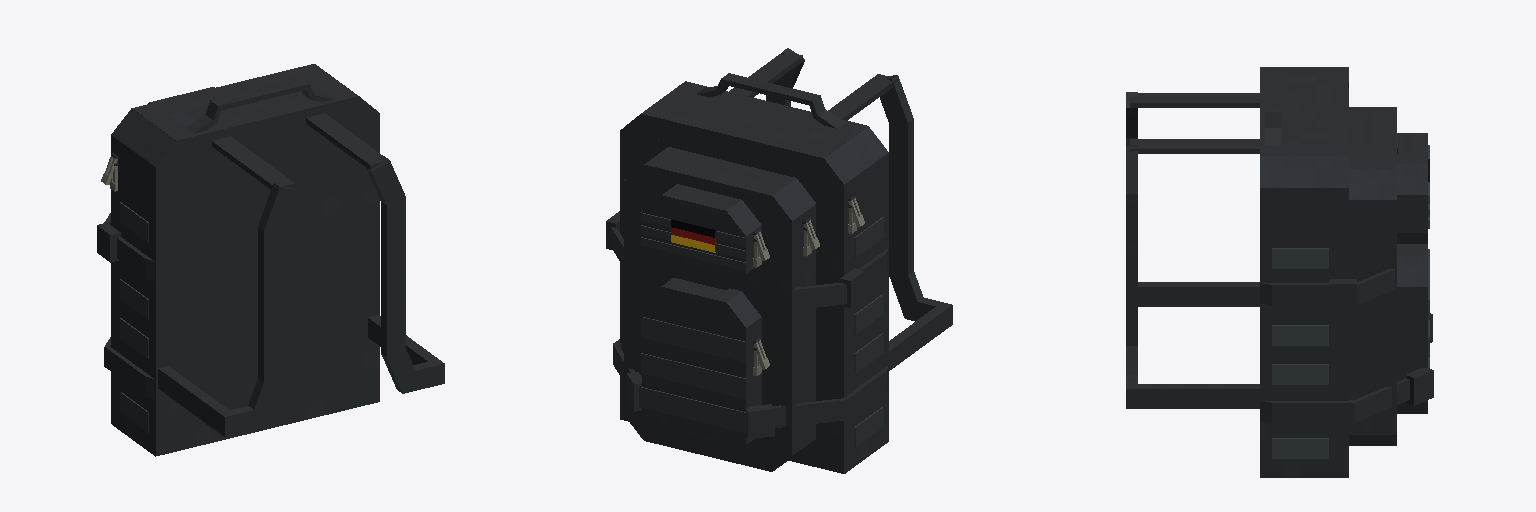
3 renders of one model, left to right at view 1: azimuth 30°, elevation 25°; view 2: azimuth 150°, elevation 25°; view 3: azimuth 270°, elevation 25°, orthographic.
Parts seen in each view (by area): view 1: Element #1, Element #9, Element #5, Element #106, Element #8, Element #103, Element #114, Element #109, Element #108, Element #92, Element #105, Element #107 (+13 smaller); view 2: Element #1, Element #10, Element #9, Element #14, Element #13, Element #106, Element #24, Element #40, Element #8, Element #41, Element #42, Element #110 (+25 smaller); view 3: Element #1, Element #10, Element #9, Element #102, Element #103, Element #13, Element #7, Element #14, Element #109, Element #114, Element #39, Element #12 (+17 smaller).
Part boxes in pixels (x1,y1,x2,y2): Element #1: (111, 113, 379, 456); Element #9: (132, 64, 358, 162); Element #5: (381, 241, 405, 356); Element #106: (258, 271, 282, 386); Element #8: (111, 108, 175, 173); Element #103: (158, 366, 227, 432); Element #114: (306, 113, 382, 170); Element #109: (212, 136, 295, 189); Element #108: (258, 183, 297, 234); Element #92: (211, 78, 308, 110); Element #105: (219, 406, 266, 436); Element #107: (258, 227, 282, 274); Element #1: (620, 130, 888, 473); Element #10: (624, 179, 815, 455); Element #9: (641, 81, 867, 179); Element #14: (642, 303, 761, 444); Element #13: (644, 147, 795, 215); Element #106: (889, 159, 913, 274); Element #24: (662, 184, 740, 231); Element #40: (639, 387, 746, 432); Element #8: (814, 126, 888, 190); Element #41: (641, 353, 745, 398); Element #42: (641, 317, 745, 362); Element #110: (661, 278, 741, 322); Element #1: (1260, 88, 1348, 477); Element #10: (1349, 200, 1396, 434); Element #9: (1260, 67, 1347, 155); Element #102: (1138, 384, 1259, 408); Element #103: (1138, 282, 1259, 306); Element #13: (1349, 107, 1396, 168); Element #7: (1260, 156, 1348, 187); Element #14: (1397, 244, 1427, 402); Element #109: (1130, 93, 1259, 107); Element #114: (1130, 139, 1259, 153); Element #39: (1272, 400, 1354, 422); Element #12: (1349, 169, 1396, 199).
Bounding box in the file's own units: 17.7 × 22.69 × 19.03.
1 materials, 1 textured.